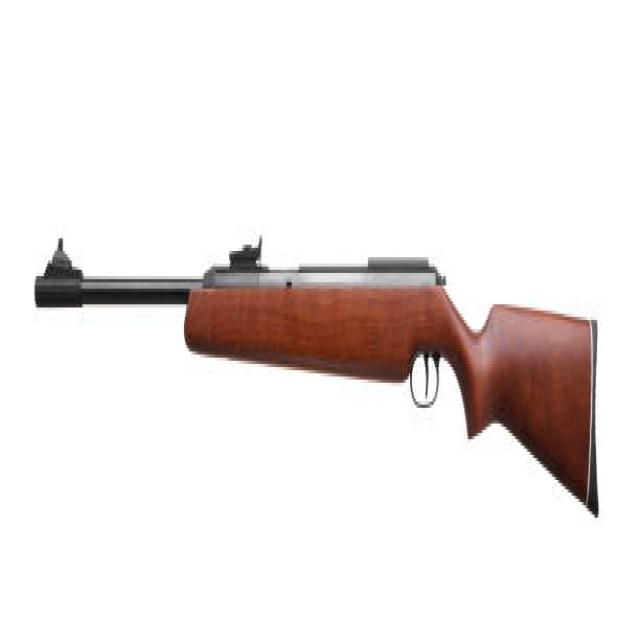rifle: (29, 207, 609, 532)
